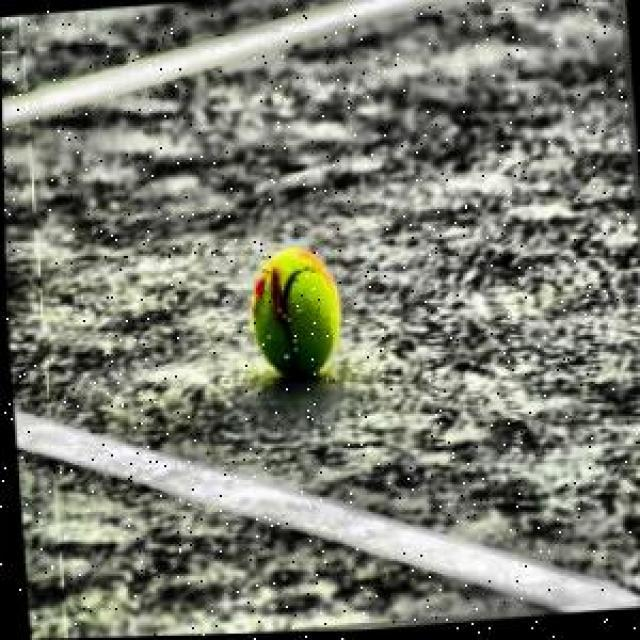tennis-ball: (246, 243, 344, 388)
